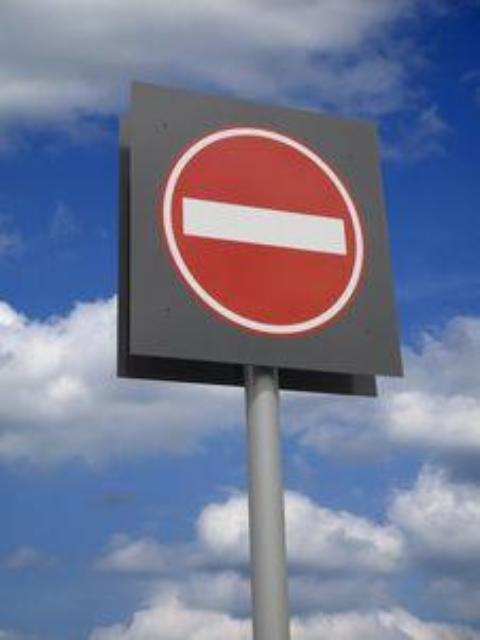B2: (112, 75, 406, 393)
